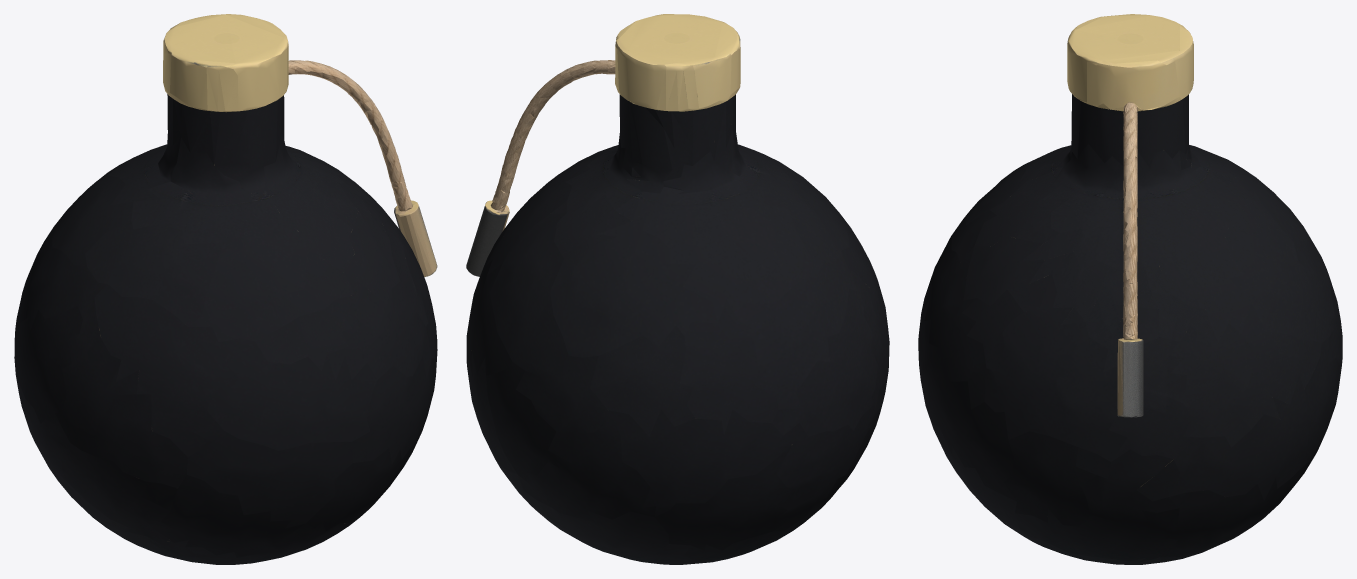
File: ticking_bomb.glb
The picture shows the model from 3 angles, left to right: view 1: azimuth 30°, elevation 25°; view 2: azimuth 150°, elevation 25°; view 3: azimuth 270°, elevation 25°; orthographic projection.
Bounding box in the file's own units: 1.54 × 1.9 × 1.44.
1 material, 1 textured.
